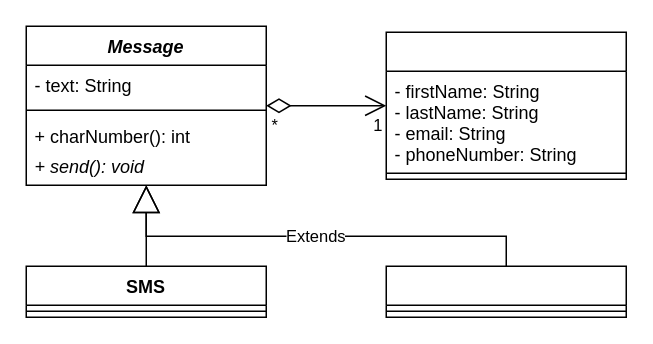
This 653x344 diagram has some shape labels left out. Here are the shapes that lost their labels. From the top down, the box of each, then its label:
(385, 31, 626, 179): User
(385, 265, 626, 317): Email
